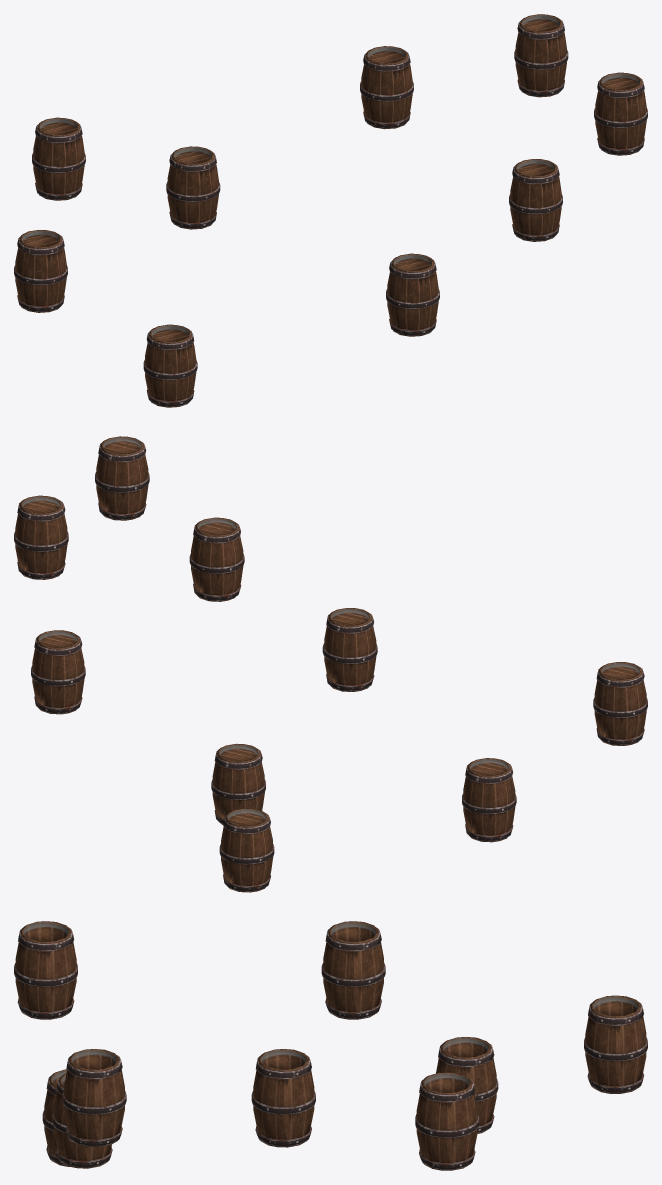
File: Tent2Barrels1.obj
The picture shows the model from 3 angles, top to bottom: view 1: azimuth 30°, elevation 25°; view 2: azimuth 150°, elevation 25°; view 3: azimuth 270°, elevation 25°; orthographic projection. The views are drawn at different scales.
Parts seen in each view (by area): view 1: BarrelSmartMat.012, BarrelSmartMat.011, BarrelSmartMat.018, BarrelSmartMat.010, BarrelSmartMat.017, BarrelSmartMat.016, BarrelSmartMat.013, BarrelSmartMat.015, BarrelSmartMat.014; view 2: BarrelSmartMat.013, BarrelSmartMat.017, BarrelSmartMat.018, BarrelSmartMat.015, BarrelSmartMat.014, BarrelSmartMat.010, BarrelSmartMat.016, BarrelSmartMat.011, BarrelSmartMat.012; view 3: BarrelSmartMat.016, BarrelSmartMat.017, BarrelSmartMat.011, BarrelSmartMat.018, BarrelSmartMat.013, BarrelSmartMat.010, BarrelSmartMat.012, BarrelSmartMat.015, BarrelSmartMat.014.
Boxes of the visible parts, box(x1,y1,x2,y2) form: BarrelSmartMat.012: box(166, 146, 220, 229); BarrelSmartMat.011: box(143, 324, 197, 407); BarrelSmartMat.018: box(594, 72, 647, 155); BarrelSmartMat.010: box(14, 230, 67, 312); BarrelSmartMat.017: box(360, 46, 413, 129); BarrelSmartMat.016: box(514, 14, 568, 97); BarrelSmartMat.013: box(32, 117, 85, 200); BarrelSmartMat.015: box(509, 159, 562, 241); BarrelSmartMat.014: box(386, 253, 439, 336); BarrelSmartMat.013: box(219, 808, 274, 892); BarrelSmartMat.017: box(31, 630, 85, 714); BarrelSmartMat.018: box(95, 436, 149, 520); BarrelSmartMat.015: box(189, 517, 244, 601); BarrelSmartMat.014: box(322, 608, 377, 691); BarrelSmartMat.010: box(462, 758, 516, 842); BarrelSmartMat.016: box(14, 495, 68, 579); BarrelSmartMat.011: box(593, 662, 647, 745); BarrelSmartMat.012: box(211, 743, 265, 824); BarrelSmartMat.016: box(251, 1049, 315, 1147); BarrelSmartMat.017: box(415, 1072, 479, 1170); BarrelSmartMat.011: box(14, 921, 77, 1019); BarrelSmartMat.018: box(62, 1049, 126, 1147); BarrelSmartMat.013: box(584, 995, 647, 1093); BarrelSmartMat.010: box(321, 921, 385, 1019); BarrelSmartMat.012: box(436, 1037, 498, 1133); BarrelSmartMat.015: box(52, 1073, 112, 1168); BarrelSmartMat.014: box(42, 1069, 69, 1166).
Size of the model in its own units: 17.19 by 5.95 by 15.36.
